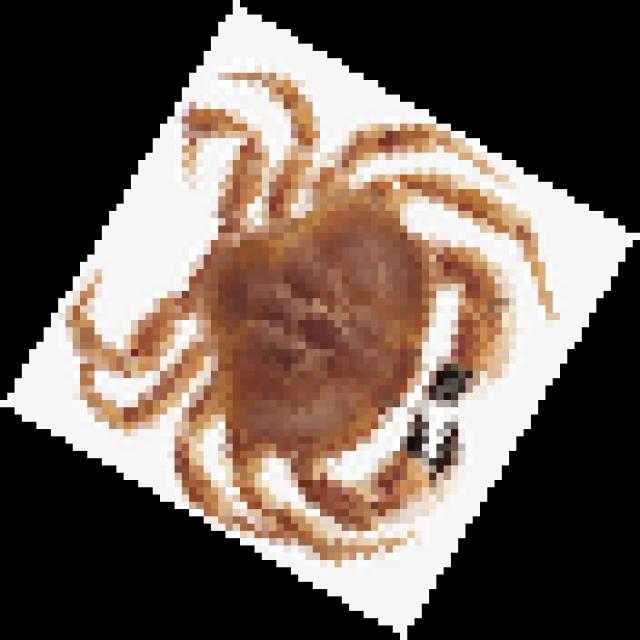Native Jonah crab: (65, 73, 545, 553)
